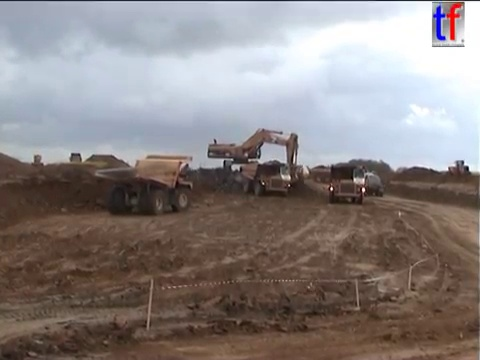truck: (205, 126, 306, 190), (93, 153, 195, 216), (237, 160, 293, 197), (326, 161, 367, 204), (288, 163, 345, 183), (350, 167, 385, 197), (443, 159, 471, 177), (67, 151, 83, 166)
